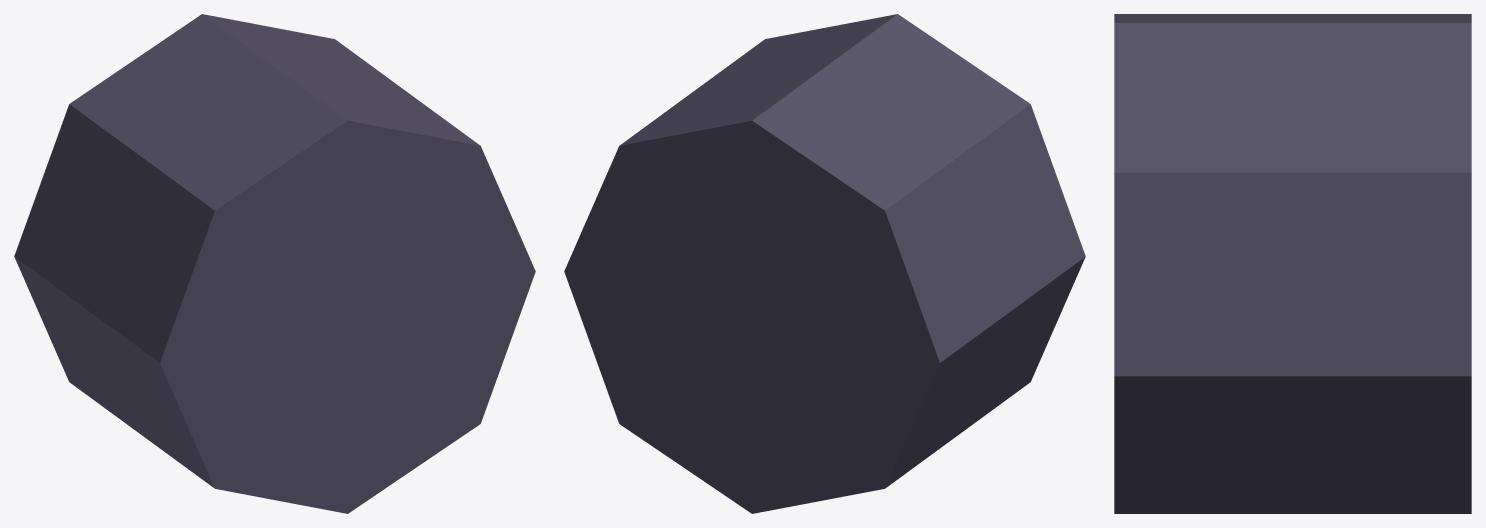
The model's file is HayRoll.fbx.
The picture shows the model from 3 angles, left to right: view 1: azimuth 30°, elevation 25°; view 2: azimuth 150°, elevation 25°; view 3: azimuth 270°, elevation 25°; orthographic projection. The views are drawn at different scales.
Parts seen in each view (by area): view 1: pCylinder64; view 2: pCylinder64; view 3: pCylinder64.
Boxes of the visible parts, x1,y1,x2,y2 form: pCylinder64: (14, 14, 535, 513); pCylinder64: (564, 14, 1085, 513); pCylinder64: (1114, 14, 1471, 513).
Bounding box in the file's own units: 772 × 772 × 519.
